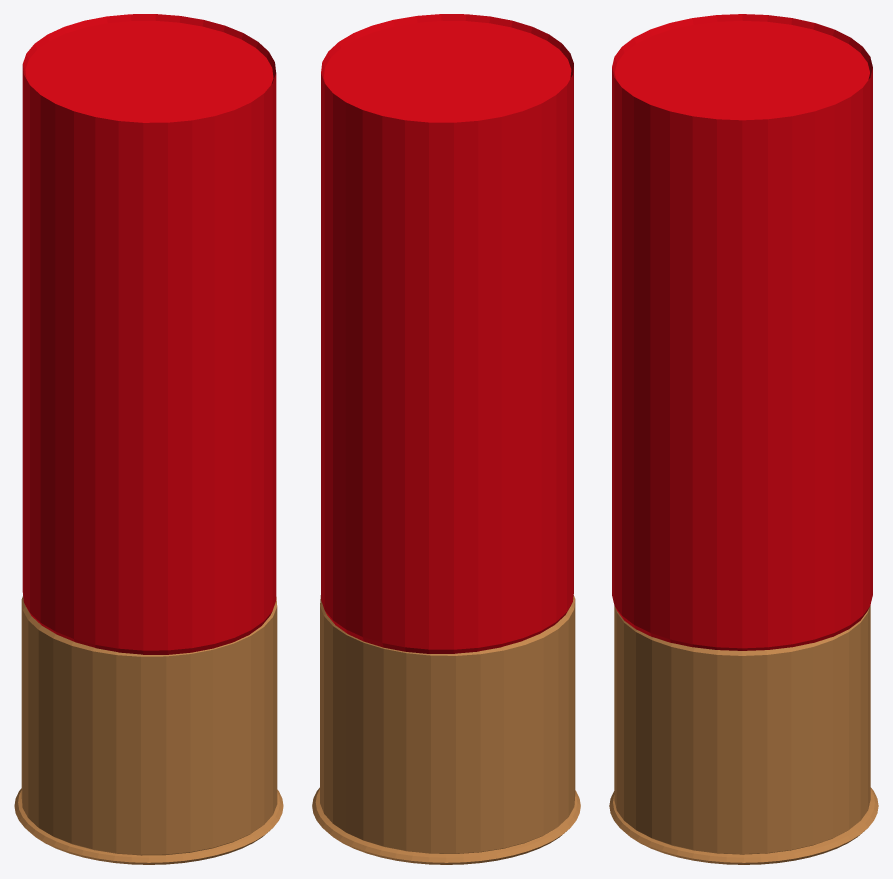
The model's file is shotgun shell.fbx.
The picture shows the model from 3 angles, left to right: view 1: azimuth 30°, elevation 25°; view 2: azimuth 150°, elevation 25°; view 3: azimuth 270°, elevation 25°; orthographic projection.
Visible parts, largest first — view 1: Cylinder, Cylinder.001, Torus; view 2: Cylinder, Cylinder.001, Torus; view 3: Cylinder, Cylinder.001, Torus.
Part boxes in pixels (left/top/right/bottom): Cylinder: left=22, top=14, right=276, bottom=654; Cylinder.001: left=21, top=596, right=277, bottom=855; Torus: left=14, top=788, right=283, bottom=864; Cylinder: left=321, top=14, right=573, bottom=653; Cylinder.001: left=320, top=595, right=575, bottom=853; Torus: left=312, top=787, right=580, bottom=864; Cylinder: left=612, top=14, right=872, bottom=650; Cylinder.001: left=614, top=605, right=870, bottom=854; Torus: left=609, top=787, right=878, bottom=864.
Bounding box in the file's own units: 286 × 873 × 286.
